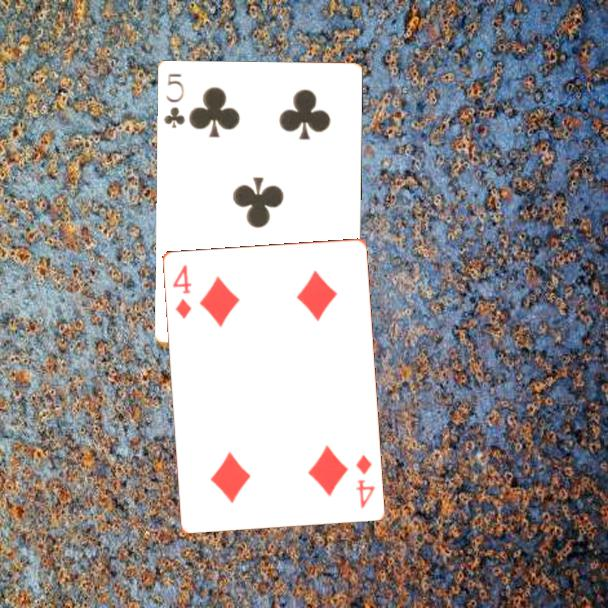c05: (161, 71, 188, 131)
d04: (169, 261, 194, 321), (352, 451, 377, 511)
